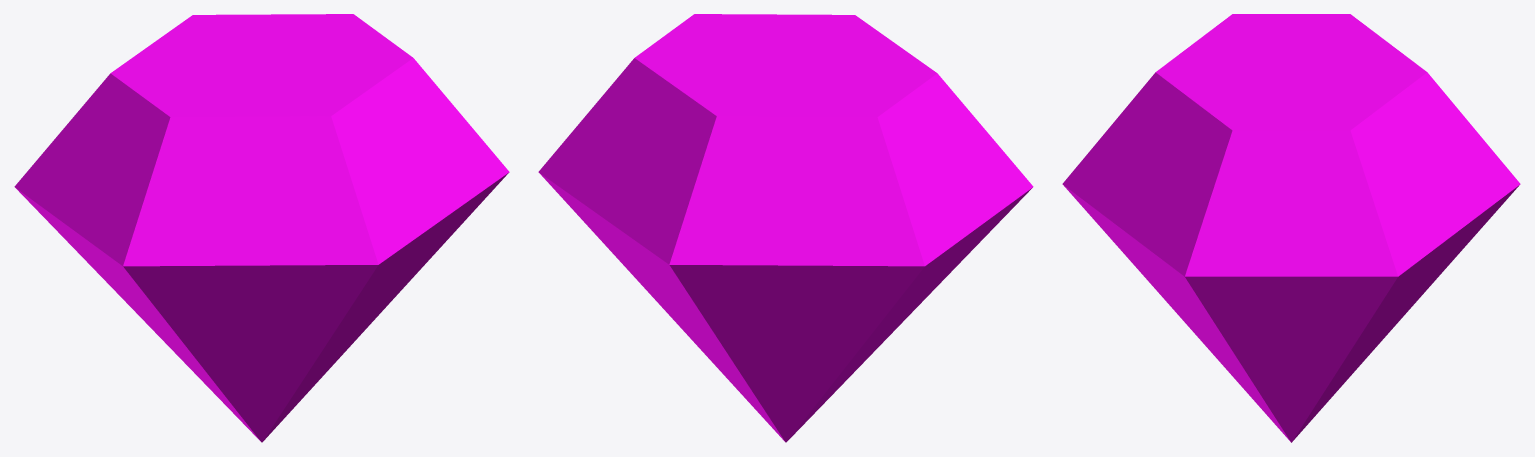
File: elmas.fbx
3 views of the same model, side by side, from view 1: azimuth 30°, elevation 25°; view 2: azimuth 150°, elevation 25°; view 3: azimuth 270°, elevation 25° (orthographic).
Parts seen in each view (by area): view 1: Cube.004; view 2: Cube.004; view 3: Cube.004.
Part boxes in pixels (box(x1,y1,x2,y2)): Cube.004: box(14, 14, 509, 442); Cube.004: box(538, 14, 1033, 442); Cube.004: box(1062, 14, 1520, 442).
Bounding box in the file's own units: 26.43 × 24.65 × 27.63.
